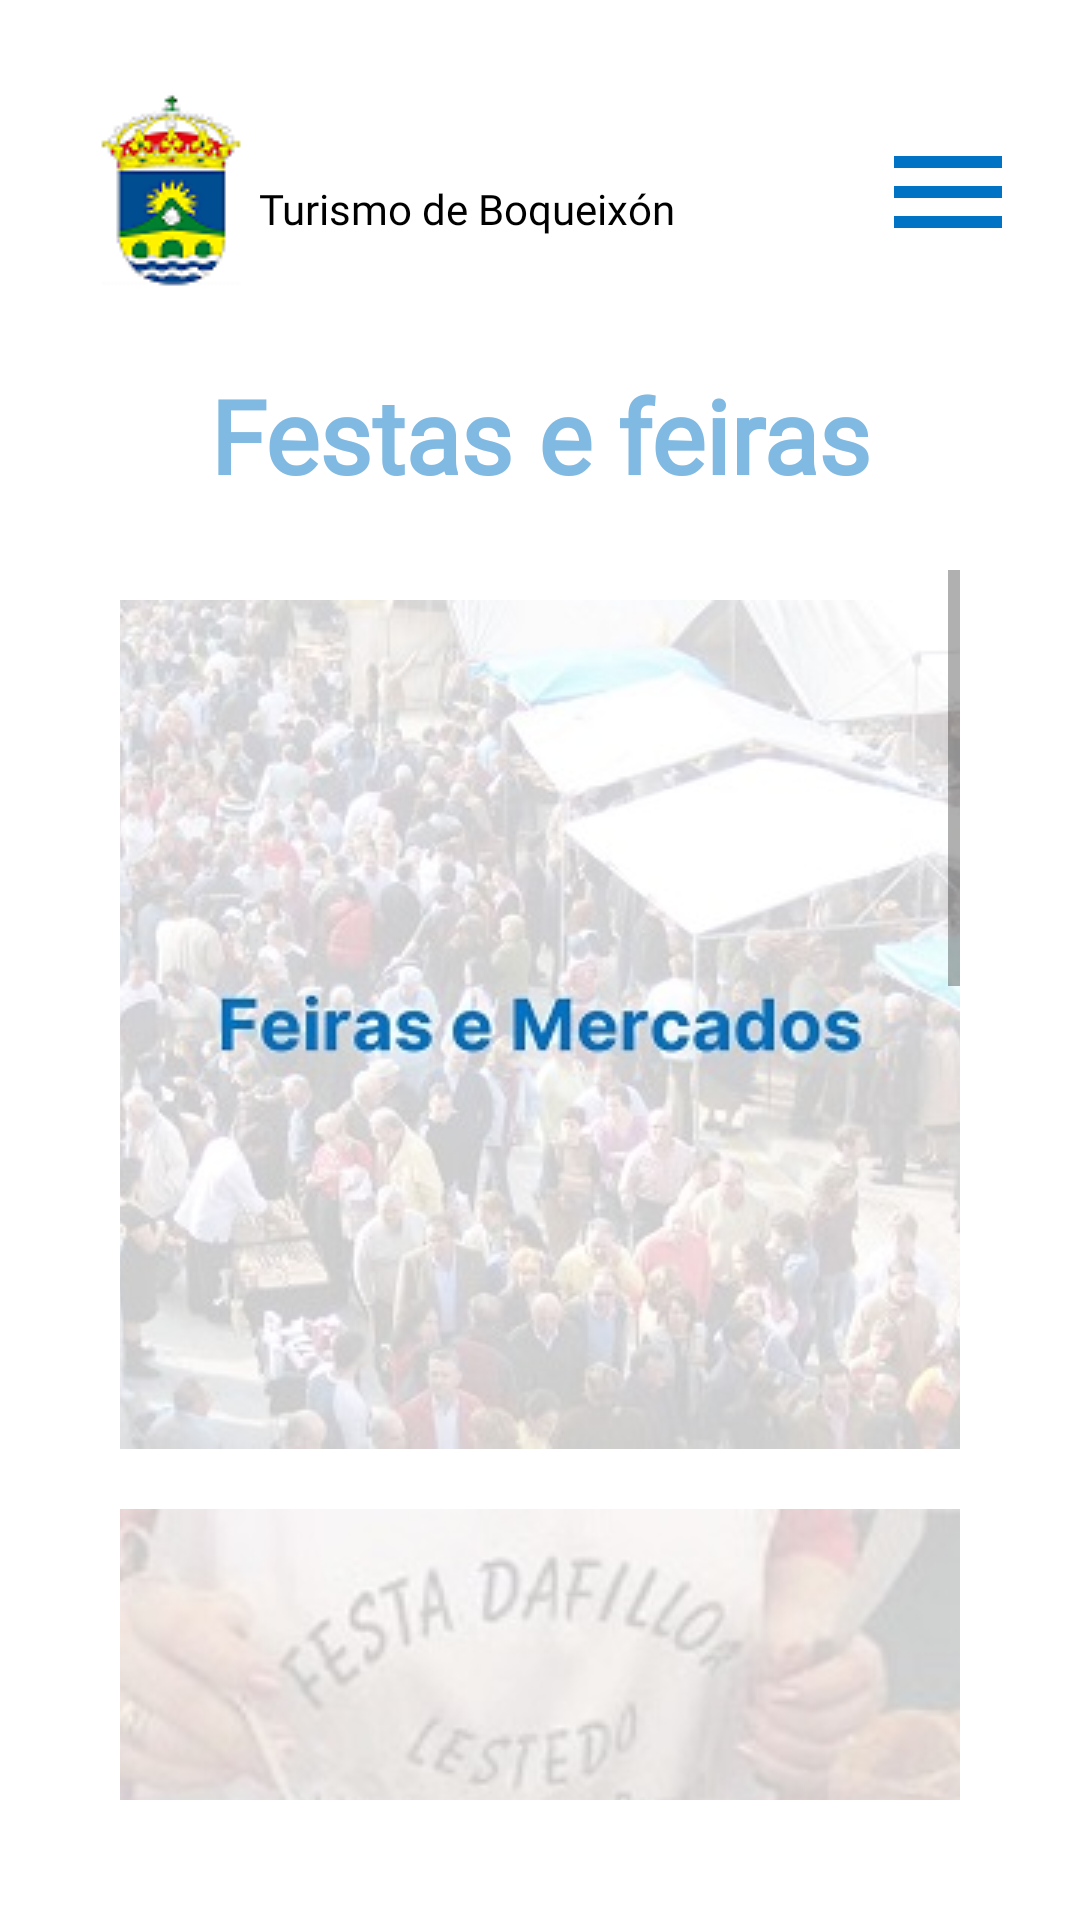

Point at icon controls on the screen. Image size 1080w x 1920h, points as [x,y].
hamburguesa: [948,192]
